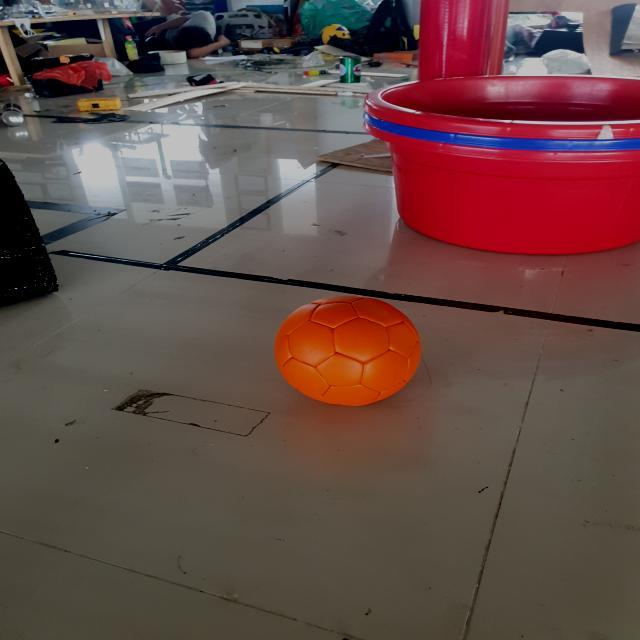bola: (270, 291, 422, 411)
